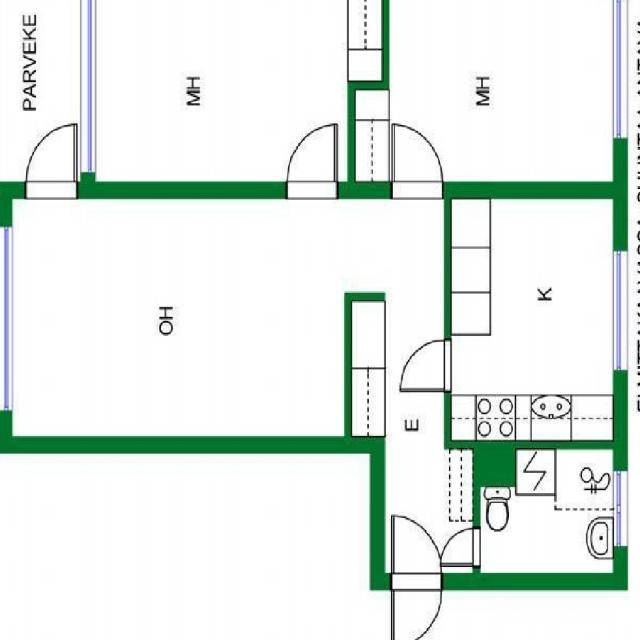door: (392, 516, 441, 589), (287, 125, 336, 198), (393, 125, 442, 197), (27, 126, 75, 197), (392, 573, 441, 640), (440, 530, 482, 568)
